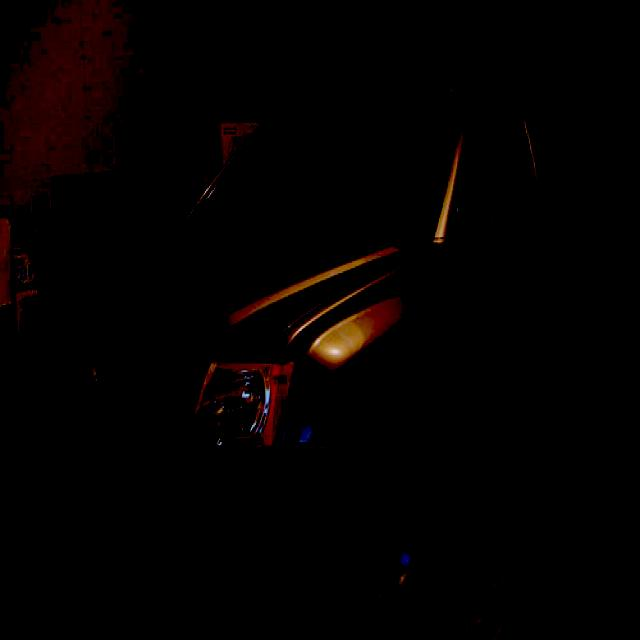Car: (4, 56, 640, 640)
